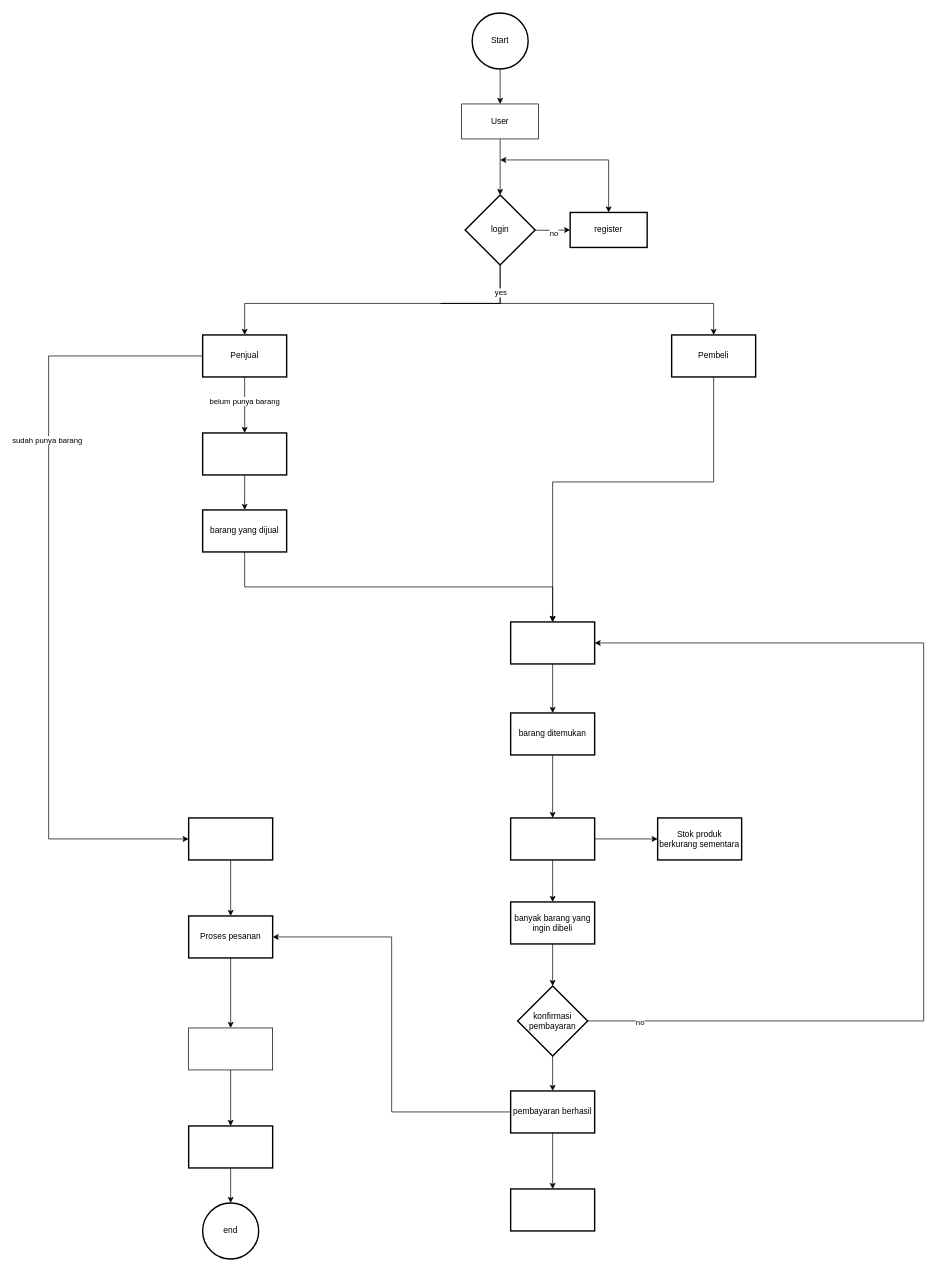
The diagram is 942 pixels wide and 1271 high, and some of its shapes have lost their labels. The shapes that lost their labels are listed below. From the top down, each one's centre as x and y in pixels, then its label:
point (244, 453): Menambahkan produk
point (552, 642): Search/view barang
point (230, 838): Menunggu pesanan
point (552, 838): tambah keranjang
point (230, 1048): mengirim pesanan
point (230, 1146): Menyelesaikan transaksi
point (552, 1209): Stok produk berkurang permanen
